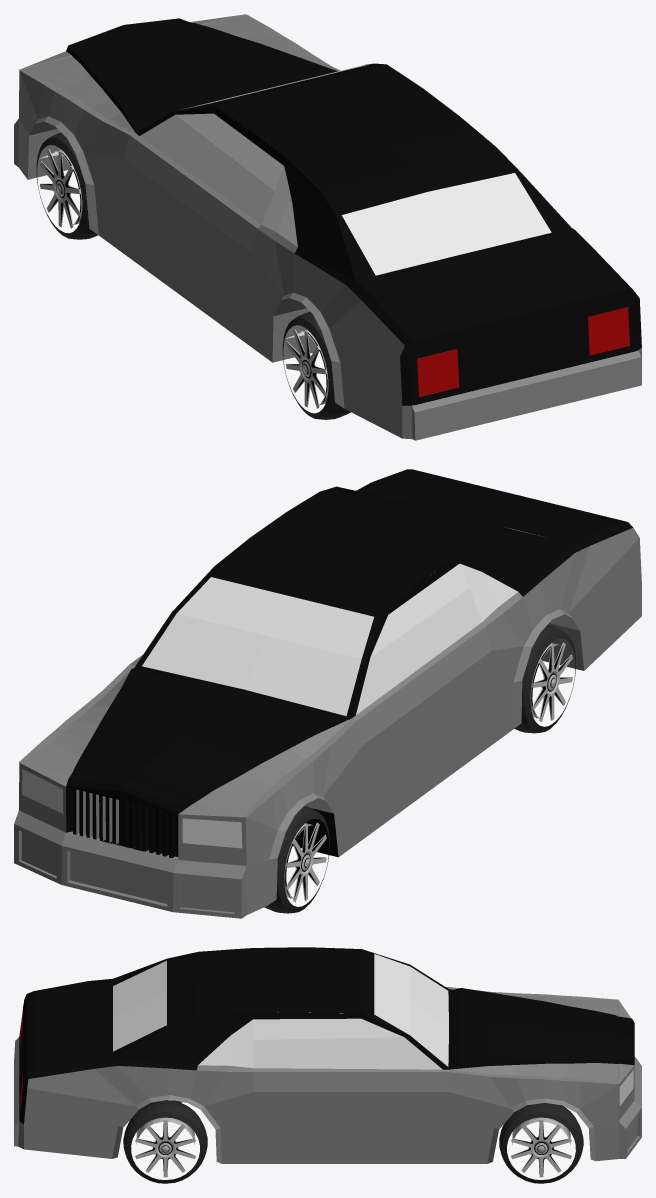
The model's file is rolls.glb.
3 views of the same model, one above another, from view 1: azimuth 30°, elevation 25°; view 2: azimuth 150°, elevation 25°; view 3: azimuth 270°, elevation 25° (orthographic). The views are drawn at different scales.
Parts seen in each view (by area): view 1: body:black, body:car, body:glass, wm (×4), body:rearlight; view 2: body:car, body:black, body:glass, wm (×4), body:light; view 3: body:car, body:black, body:glass, wm (×6).
Boxes of the visible parts, x1,y1,x2,y2 form: body:black: (66,18,641,405); body:car: (14,14,641,440); body:glass: (140,63,551,275); wm (×4): (36,132,350,419); body:rearlight: (417,307,629,397); body:car: (14,527,641,918); body:black: (66,469,632,857); body:glass: (142,528,539,716); wm (×4): (264,625,576,913); body:light: (22,769,242,848); body:car: (14,987,641,1163); body:black: (19,947,634,1123); body:glass: (113,954,448,1069); wm (×6): (123,1100,583,1183).
Size of the model in its own units: 1.62 by 1.33 by 4.6.
